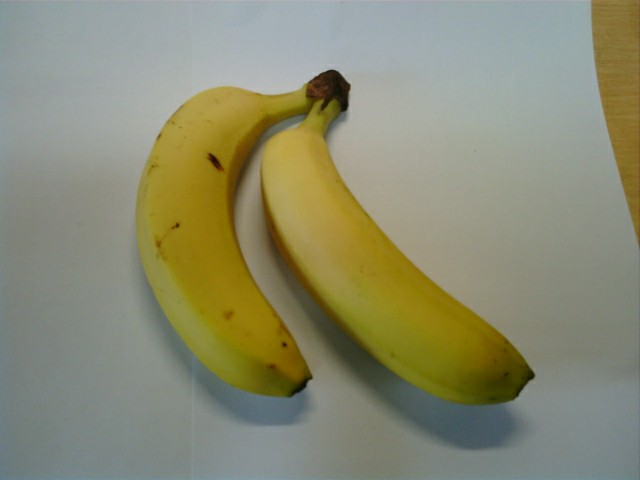fresh_banana: (262, 119, 536, 406)
normal_banana: (132, 85, 310, 398)
